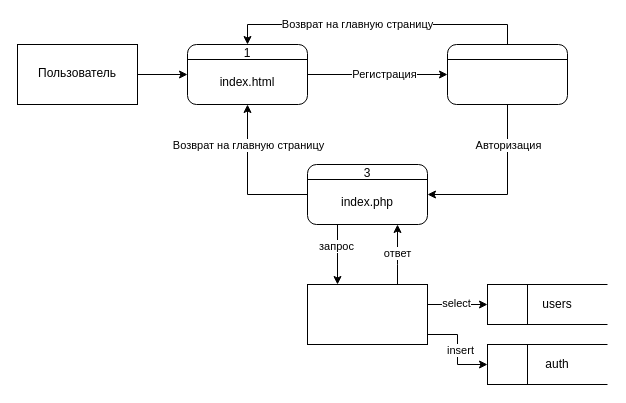
Image size: 626x403. Some labels were removed from this diagram. The shapes that lost their labels are listed below. From the top down, each one's centre as x and y in pixels, then its label:
At point (507, 74): "2 register.html".
At point (367, 314): "Cloud Server".
